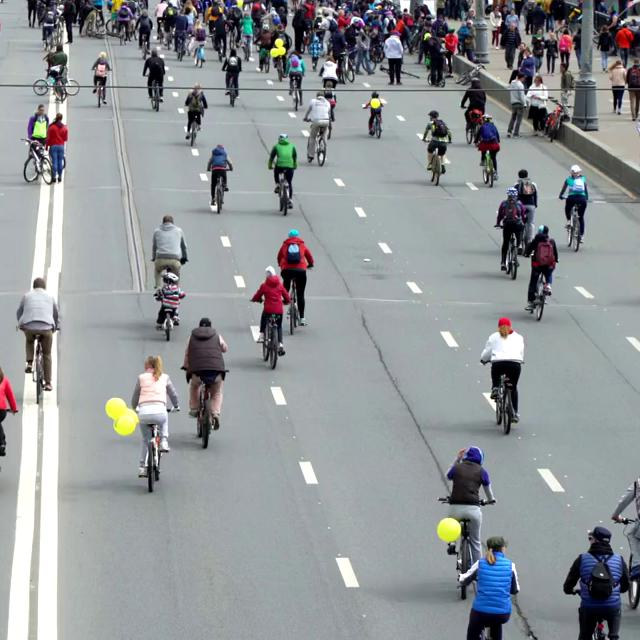bicycle: (437, 495, 496, 599), (135, 406, 180, 492), (181, 366, 228, 448), (480, 358, 524, 434), (16, 325, 59, 397), (611, 516, 639, 609), (251, 299, 287, 370), (494, 221, 525, 280), (524, 265, 554, 321), (33, 65, 79, 99), (20, 137, 53, 184), (559, 196, 586, 252), (153, 293, 183, 341), (543, 95, 573, 143), (303, 117, 332, 166), (270, 166, 295, 216), (423, 139, 449, 186), (208, 166, 232, 213), (477, 146, 499, 187), (184, 108, 204, 147), (455, 62, 486, 85), (91, 69, 109, 107), (364, 105, 383, 138), (288, 73, 303, 110), (148, 83, 163, 111), (225, 81, 239, 107)
